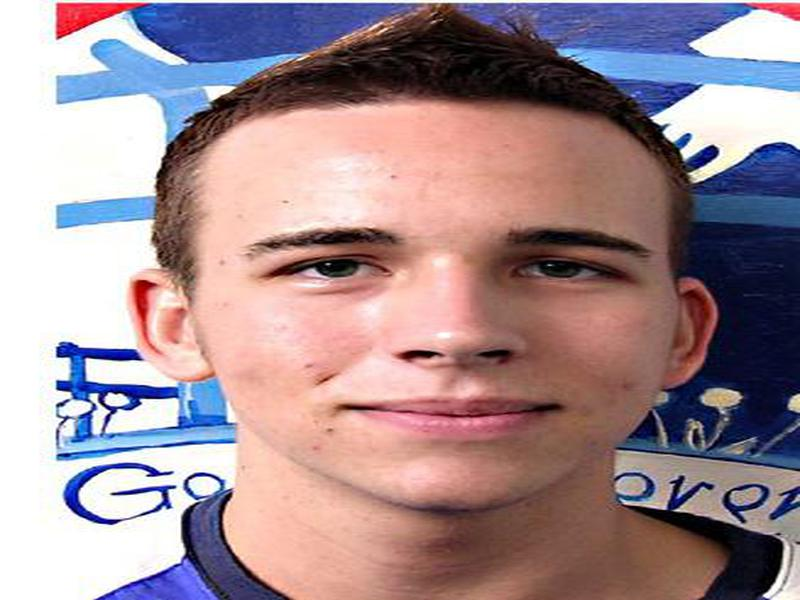without_mask: (208, 123, 676, 510)
